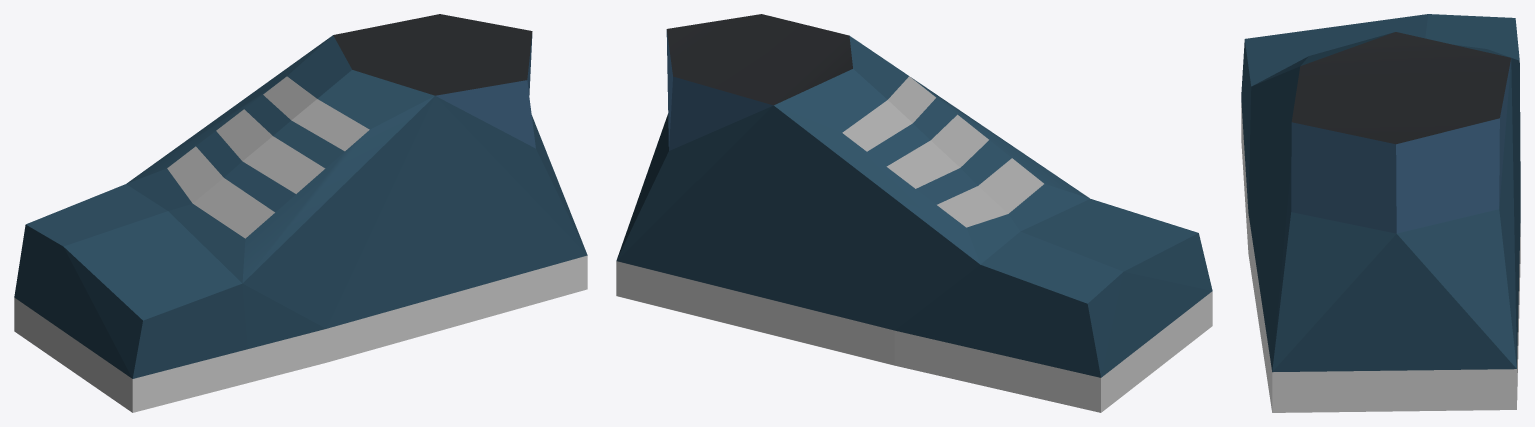
Rendered from SM_Prop_Shoes_02.fbx.
The picture shows the model from 3 angles, left to right: view 1: azimuth 30°, elevation 25°; view 2: azimuth 150°, elevation 25°; view 3: azimuth 270°, elevation 25°; orthographic projection. The views are drawn at different scales.
Parts seen in each view (by area): view 1: SM_Prop_Shoes_02; view 2: SM_Prop_Shoes_02; view 3: SM_Prop_Shoes_02.
Boxes of the visible parts, left/top/right/bottom form: SM_Prop_Shoes_02: left=14, top=14, right=587, bottom=412; SM_Prop_Shoes_02: left=616, top=14, right=1212, bottom=412; SM_Prop_Shoes_02: left=1241, top=14, right=1520, bottom=412.
Bounding box in the file's own units: 22.33 × 10.24 × 9.5.
